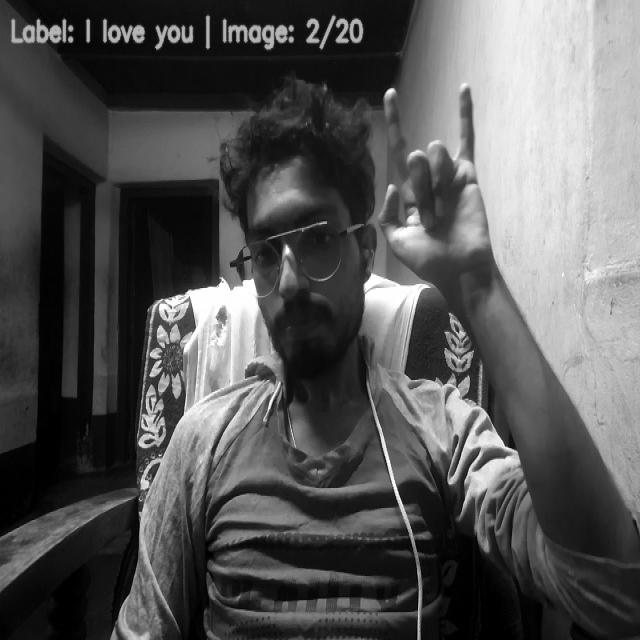I love you: (375, 79, 493, 277)
